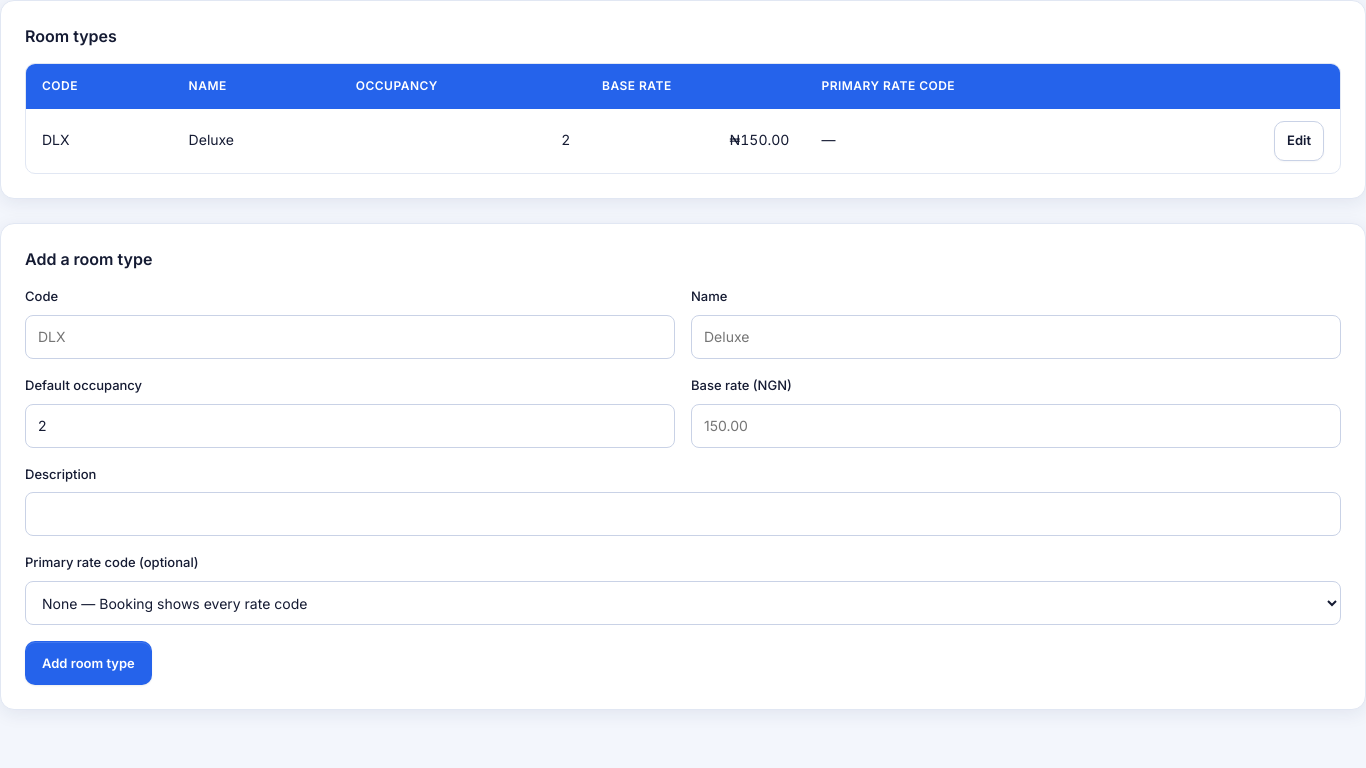
Test case: <RoomTypesTab> › shows the real backend 403 when a non-super_admin tries to save an edit
Expected: the text "DLX" is shown, [26,108,173,173]
Click the button "Edit" at (1299, 141), box [1274,121,1324,161]
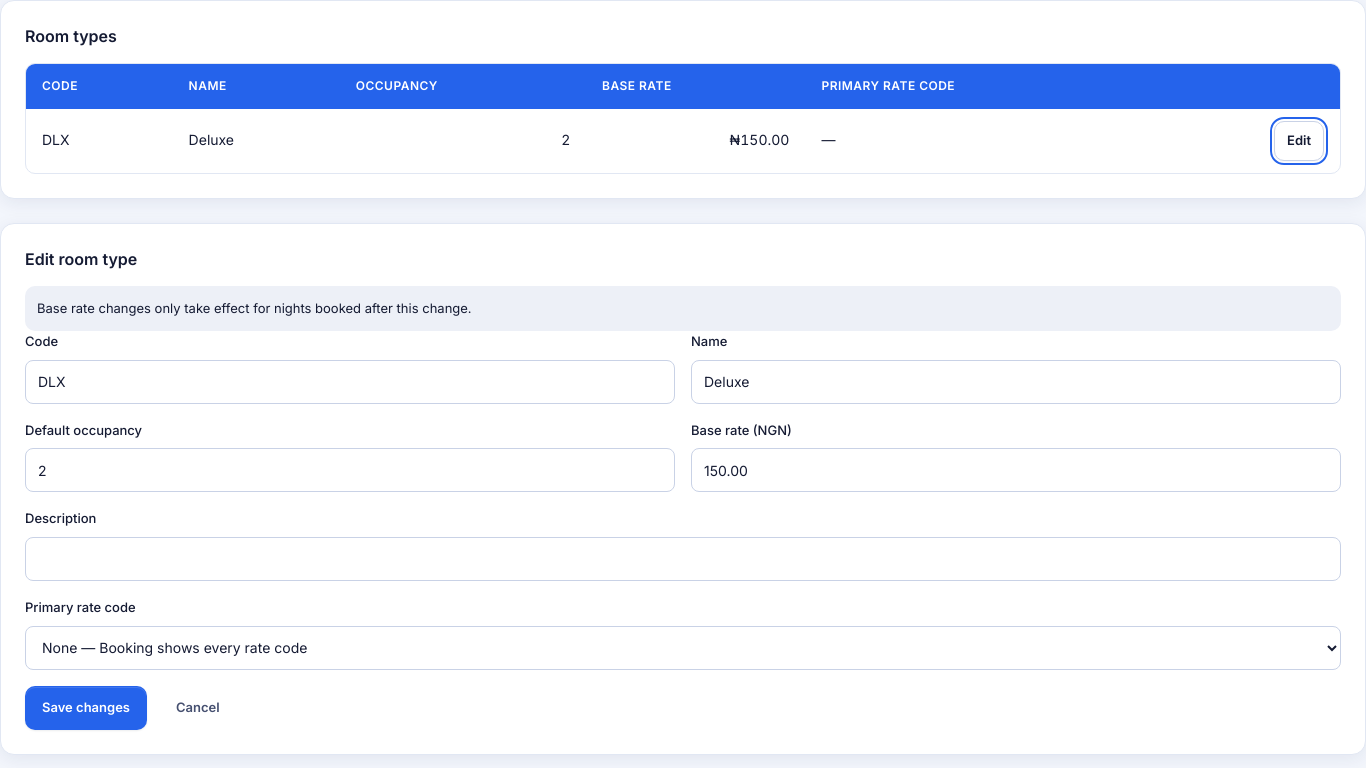
Click the button "Save changes" at (86, 708), box [25,686,147,730]
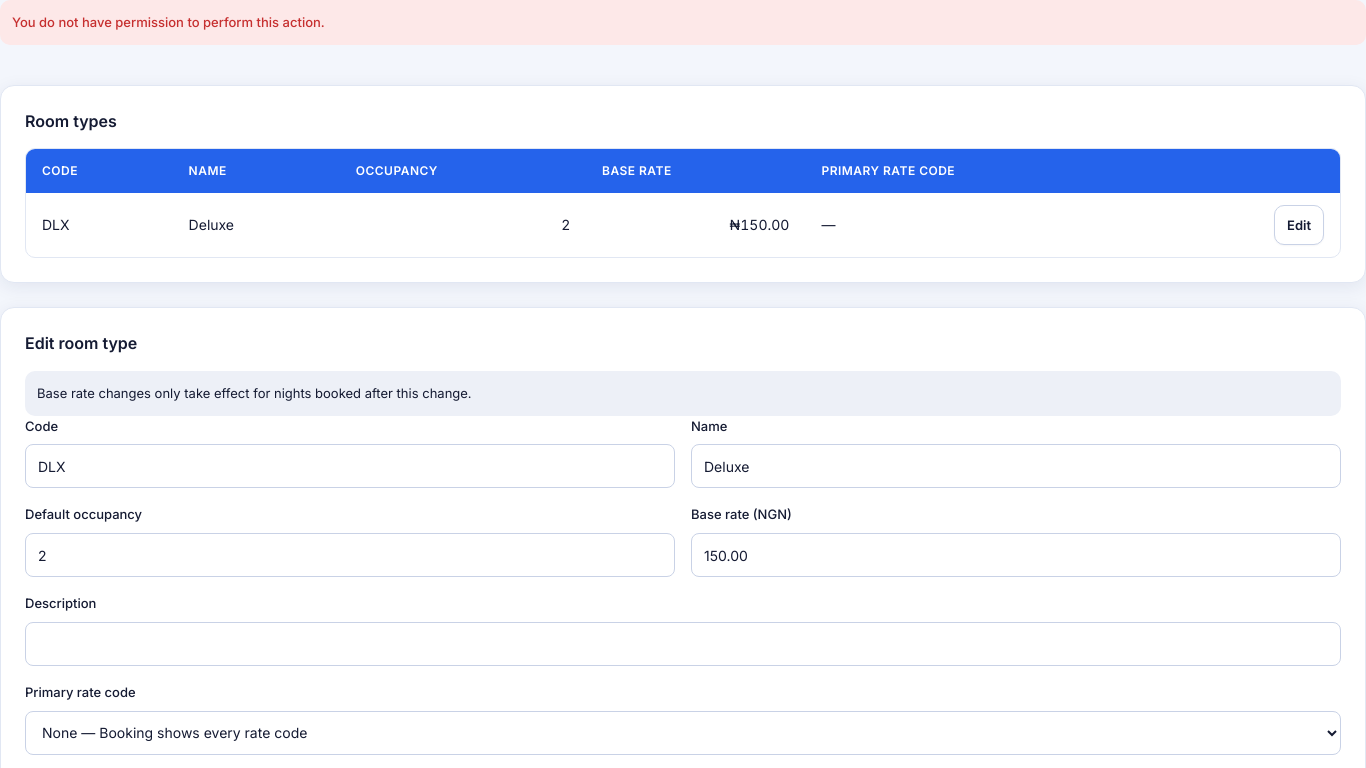
Now the message reads "You do not have permission to perform this action.", box [12,14,325,30]
